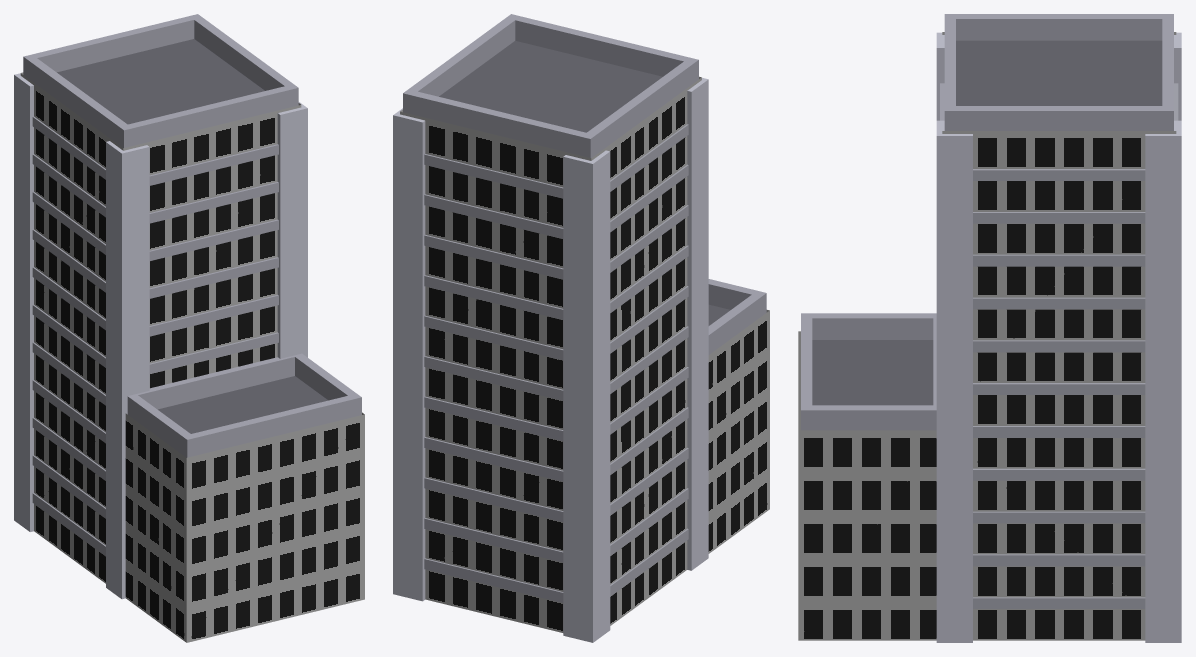
Rendered from Building_BM3.fbx.
3 renders of one model, left to right at view 1: azimuth 30°, elevation 25°; view 2: azimuth 150°, elevation 25°; view 3: azimuth 270°, elevation 25°, orthographic. The views are drawn at different scales.
Visible parts, largest first — view 1: Building_BM_3; view 2: Building_BM_3; view 3: Building_BM_3.
Boxes of the visible parts, x1,y1,x2,y2 form: Building_BM_3: (14, 14, 364, 642); Building_BM_3: (393, 14, 769, 642); Building_BM_3: (798, 14, 1181, 642).
Size of the model in its own units: 2166 by 5174 by 3400.
